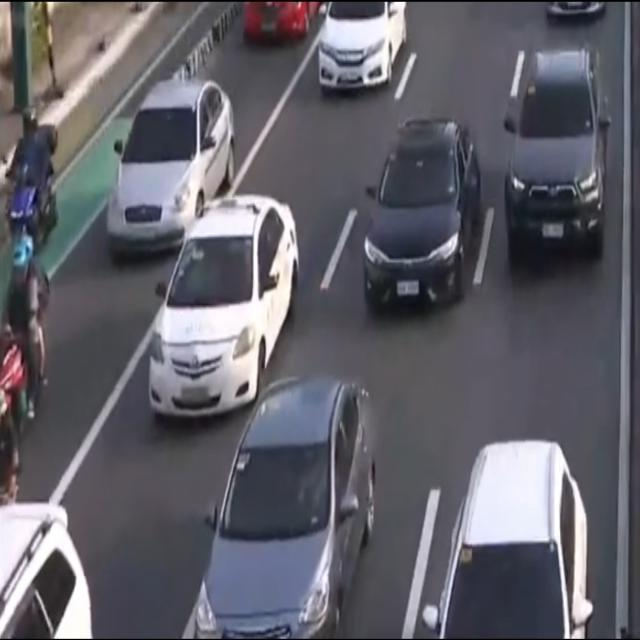Motorcycle: (3, 92, 73, 260), (0, 237, 55, 428)
SUV: (420, 418, 601, 640), (495, 34, 617, 274)
Sedan: (201, 366, 390, 640), (134, 185, 301, 442), (360, 102, 487, 325), (102, 69, 235, 275)
